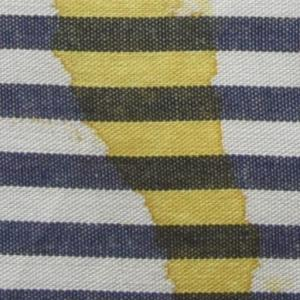Oil Stain: (47, 1, 268, 300)
